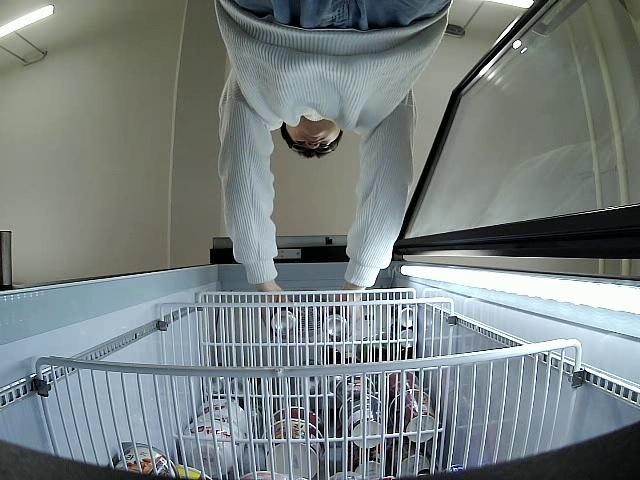00_hand: (327, 287, 362, 327), (262, 285, 293, 324)
